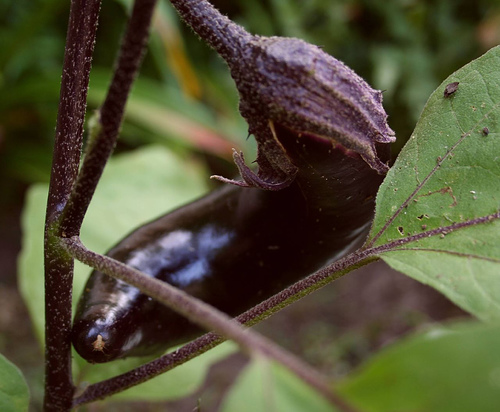eggplant: (69, 29, 400, 366)
